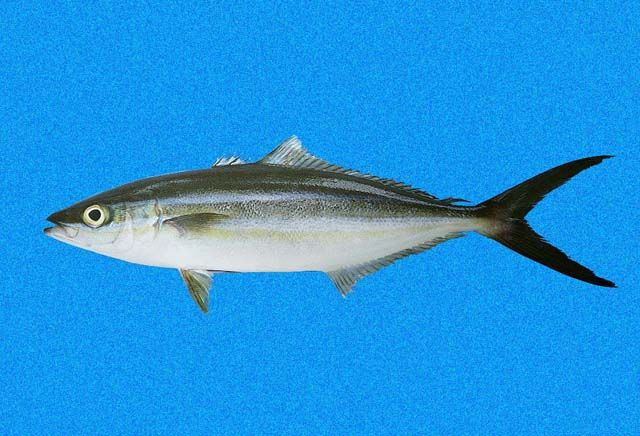fish: (45, 134, 619, 315)
